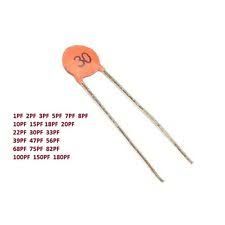ceramic capacitor: (39, 30, 143, 98)
